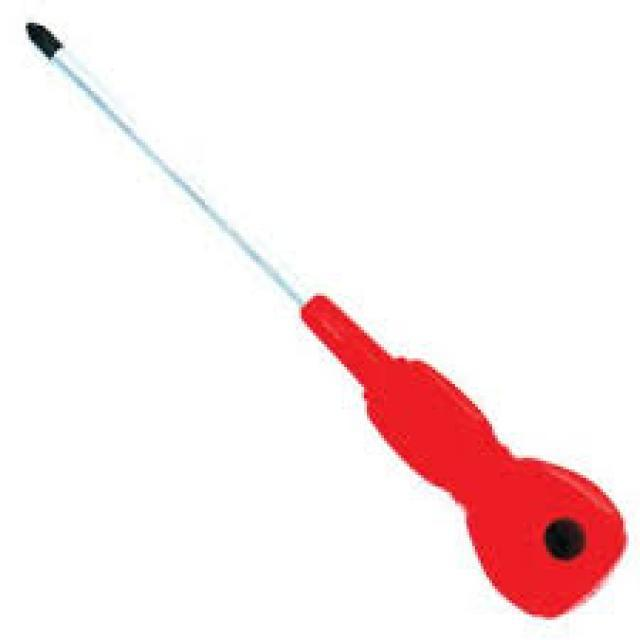screwdriver: (17, 16, 626, 616)
